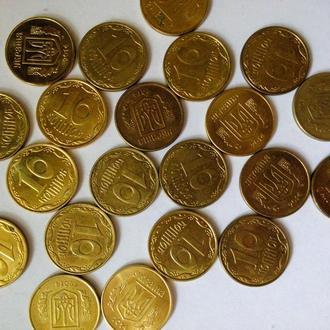coin_10: (219, 221, 288, 288), (246, 151, 309, 217), (45, 207, 109, 271), (243, 27, 305, 91), (84, 23, 146, 85), (104, 267, 165, 330), (156, 215, 216, 279), (11, 16, 72, 78), (96, 151, 156, 214), (44, 85, 105, 144), (119, 86, 177, 147), (169, 36, 227, 97), (12, 150, 71, 207), (169, 144, 223, 205), (33, 276, 94, 330), (214, 92, 268, 152), (299, 75, 330, 140), (0, 225, 25, 279), (0, 95, 25, 149)
